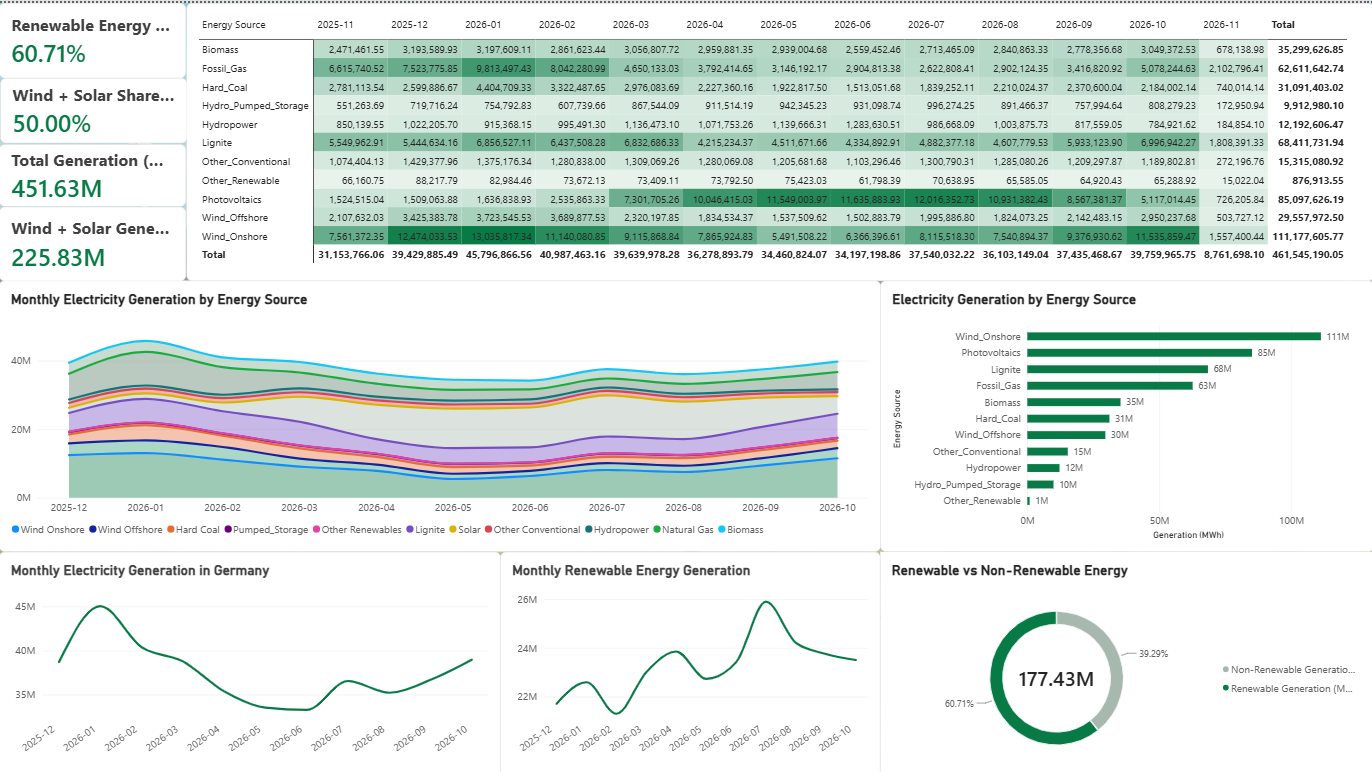

The dashboard page shown, as its layout file describes it:
{"tool":"powerbi","page":{"name":"Page 1","canvas":[1920,1080],"ordinal":0},"visuals":[{"type":"cardVisual","fields":{"Data":["_Measures.Renewable Energy Share (%)"]},"box":[0,0,261.4,105.7],"z":0},{"type":"lineChart","title":"Monthly Electricity Generation in Germany","fields":{"Category":["germany-electricity-generation-clean.Year-Month"],"Y":["_Measures.Total Generation (MWh)"]},"box":[0,766,700,314],"z":1000},{"type":"stackedAreaChart","title":"Monthly Electricity Generation by Energy Source","fields":{"Category":["germany-electricity-generation-clean.Year-Month"],"Y":["Sum(germany-electricity-generation-clean.Wind_Onshore)","Sum(germany-electricity-generation-clean.Wind_Offshore)","Sum(germany-electricity-generation-clean.Hard_Coal)","Sum(germany-electricity-generation-clean.Hydro_Pumped_Storage)","Sum(germany-electricity-generation-clean.Other_Renewable)","Sum(germany-electricity-generation-clean.Lignite)","Sum(germany-electricity-generation-clean.Photovoltaics)","Sum(germany-electricity-generation-clean.Other_Conventional)","Sum(germany-electricity-generation-clean.Hydropower)","Sum(germany-electricity-generation-clean.Fossil_Gas)","Sum(germany-electricity-generation-clean.Biomass)"]},"box":[0,388,1230,378],"z":2000},{"type":"clusteredBarChart","title":"Electricity Generation by Energy Source","fields":{"Category":["Energy Source Analysis.Energy Source"],"Y":["Sum(Energy Source Analysis.Generation (MWh))"]},"box":[1230,388,690,378],"z":3000},{"type":"donutChart","title":"Renewable vs Non-Renewable Energy","fields":{"Y":["_Measures.Non-Renewable Generation (MWh)","_Measures.Renewable Generation (MWh)"]},"box":[1230,766,690,314],"z":4000},{"type":"lineChart","title":"Monthly Renewable Energy Generation","fields":{"Category":["germany-electricity-generation-clean.Year-Month"],"Y":["_Measures.Renewable Generation (MWh)"]},"box":[700,766,530,314],"z":5000},{"type":"pivotTable","fields":{"Columns":["Energy Source Analysis.Year-Month"],"Rows":["Energy Source Analysis.Energy Source"],"Values":["Sum(Energy Source Analysis.Generation (MWh))"]},"box":[262,0,1658,388],"z":6000},{"type":"cardVisual","fields":{"Data":["_Measures.Wind + Solar Generation (MWh)"]},"box":[0,284.3,261.4,104.3],"z":7000},{"type":"cardVisual","fields":{"Data":["_Measures.Total Generation (MWh)"]},"box":[0,197.1,261.4,87.1],"z":8000},{"type":"cardVisual","fields":{"Data":["_Measures.Wind + Solar Share (%)"]},"box":[1.7,105,261.7,91.7],"z":9000}]}

Visuals, with their boxes in screenshot pixels (x1, y1, x2, y2), scaled from the page's 1920x1080 canvas onto the 1372x772 screenshot:
cardVisual - _Measures.Renewable Energy Share (%): 0,0,187,76
"Monthly Electricity Generation in Germany" lineChart: 0,548,500,771
"Monthly Electricity Generation by Energy Source" stackedAreaChart: 0,277,879,548
"Electricity Generation by Energy Source" clusteredBarChart: 879,277,1371,548
"Renewable vs Non-Renewable Energy" donutChart: 879,548,1371,771
"Monthly Renewable Energy Generation" lineChart: 500,548,879,771
pivotTable - Energy Source Analysis.Year-Month x Energy Source Analysis.Energy Source: 187,0,1371,277
cardVisual - _Measures.Wind + Solar Generation (MWh): 0,203,187,278
cardVisual - _Measures.Total Generation (MWh): 0,141,187,203
cardVisual - _Measures.Wind + Solar Share (%): 1,75,188,141
